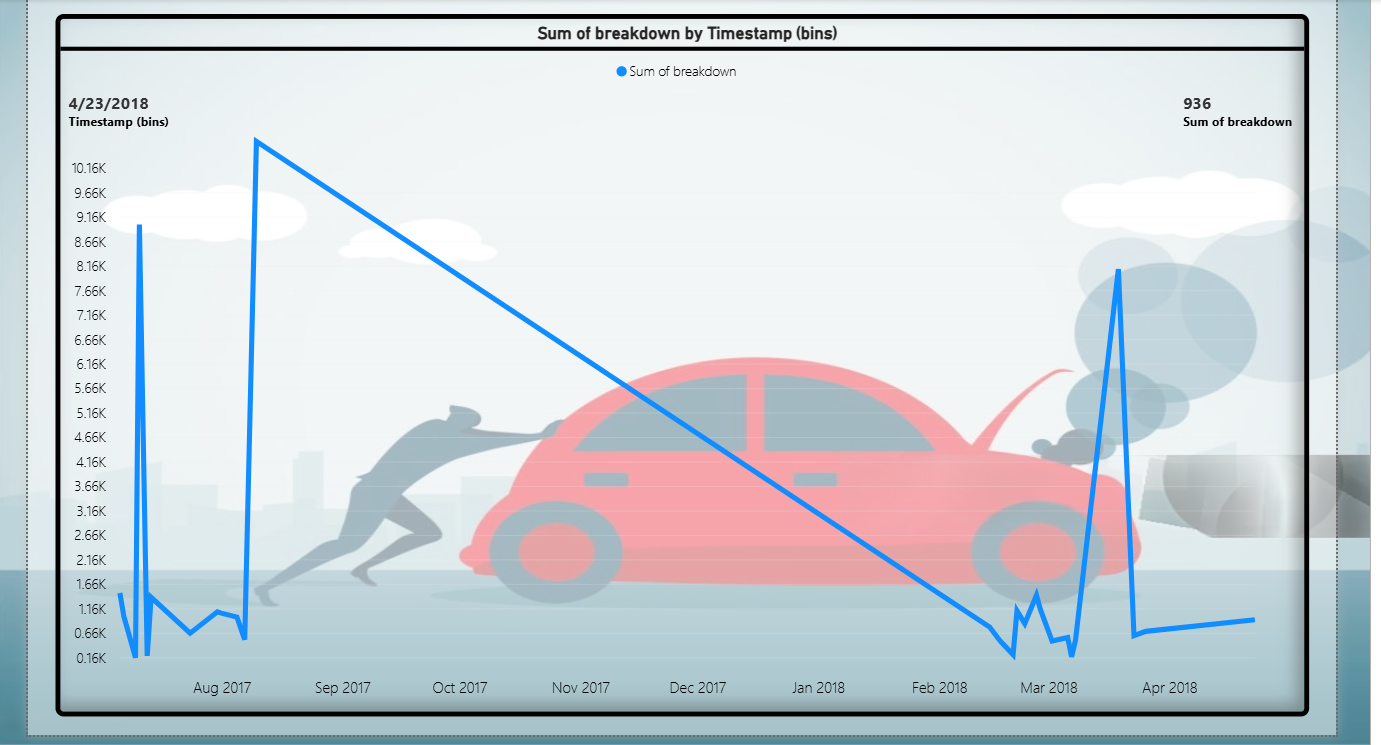

This screenshot's page, from the dashboard's own definition file:
{"tool":"powerbi","page":{"name":"BreakDowns","canvas":[1280,720],"ordinal":2},"visuals":[{"type":"powerKPI462CE5C2666F4EC8A8BDD7E5587320A3","fields":{"Values":["Sum(cleaned_obd_with_timestamp.breakdown)"],"Axis":["cleaned_obd_with_timestamp.Timestamp (bins)"]},"box":[27.5,15,1226.2,687.5],"z":0}]}

Visuals, with their boxes in screenshot pixels (x1, y1, x2, y2):
powerKPI462CE5C2666F4EC8A8BDD7E5587320A3 - Sum(cleaned_obd_with_timestamp.breakdown) x cleaned_obd_with_timestamp.Timestamp (bins): <bbox>53, 12, 1304, 713</bbox>
